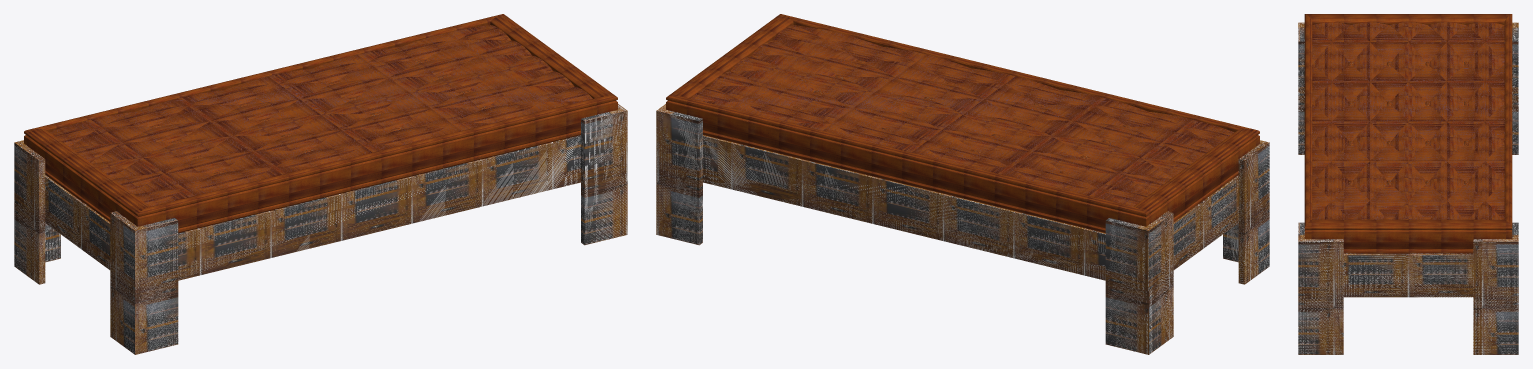
3 renders of one model, left to right at view 1: azimuth 30°, elevation 25°; view 2: azimuth 150°, elevation 25°; view 3: azimuth 270°, elevation 25°, orthographic. The views are drawn at different scales.
Parts seen in each view (by area): view 1: mesh1_mesh1-geometry, mesh37_mesh37-geometry; view 2: mesh1_mesh1-geometry, mesh37_mesh37-geometry; view 3: mesh1_mesh1-geometry, mesh37_mesh37-geometry.
Boxes of the visible parts, <box> form: mesh1_mesh1-geometry: <box>24,14,617,233</box>; mesh37_mesh37-geometry: <box>14,104,627,354</box>; mesh1_mesh1-geometry: <box>666,14,1259,233</box>; mesh37_mesh37-geometry: <box>656,104,1269,354</box>; mesh1_mesh1-geometry: <box>1304,14,1512,253</box>; mesh37_mesh37-geometry: <box>1298,22,1518,354</box>.
Size of the model in its own units: 0.8936 by 0.2394 by 0.3798.
